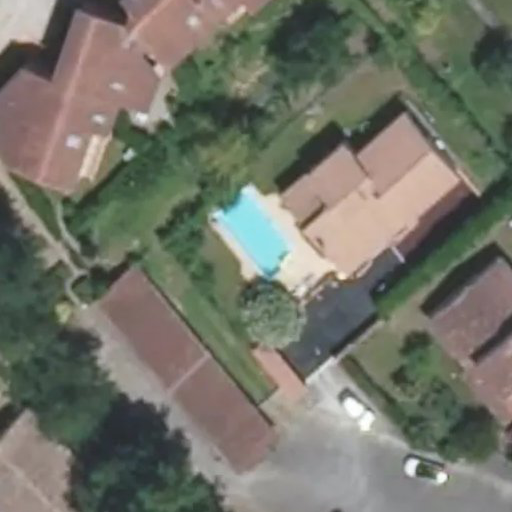pool: (212, 224, 299, 259)
